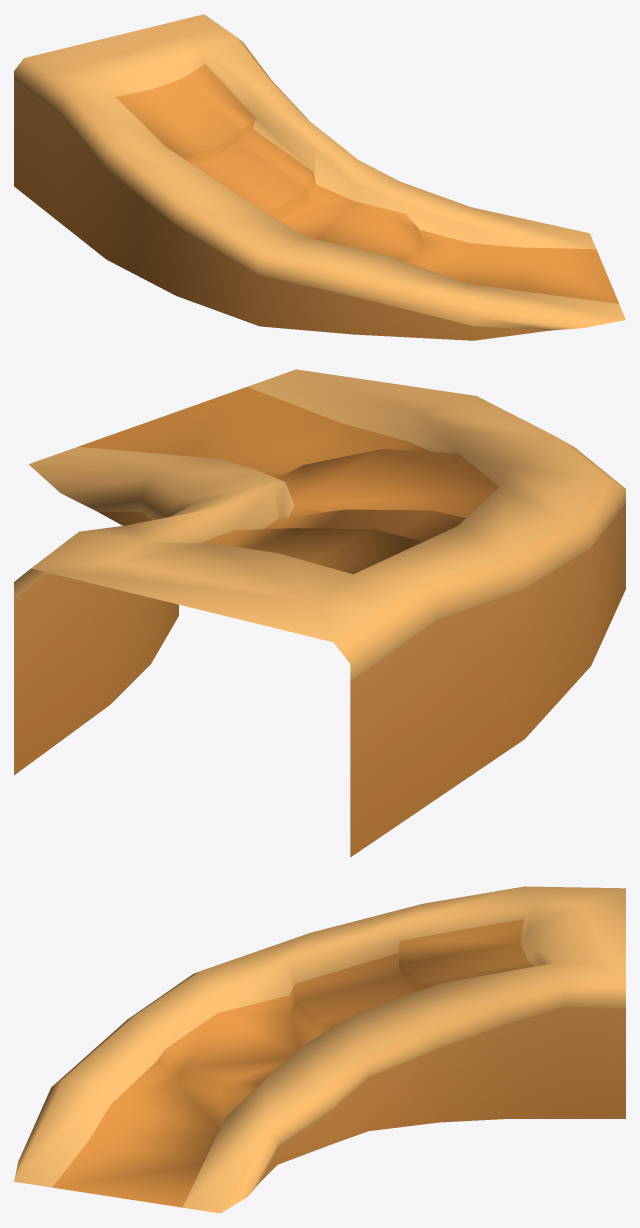
The model's file is Bent Stairs 02.FBX.
3 renders of one model, top to bottom at view 1: azimuth 30°, elevation 25°; view 2: azimuth 150°, elevation 25°; view 3: azimuth 270°, elevation 25°, orthographic. The views are drawn at different scales.
Visible parts, largest first — view 1: Bent Stairs 02; view 2: Bent Stairs 02; view 3: Bent Stairs 02.
Boxes of the visible parts, left/top/right/bottom form: Bent Stairs 02: left=14, top=14, right=625, bottom=340; Bent Stairs 02: left=14, top=369, right=625, bottom=857; Bent Stairs 02: left=14, top=886, right=625, bottom=1213.
Size of the model in its own units: 972 by 300 by 1254.
1 material, 1 textured.
